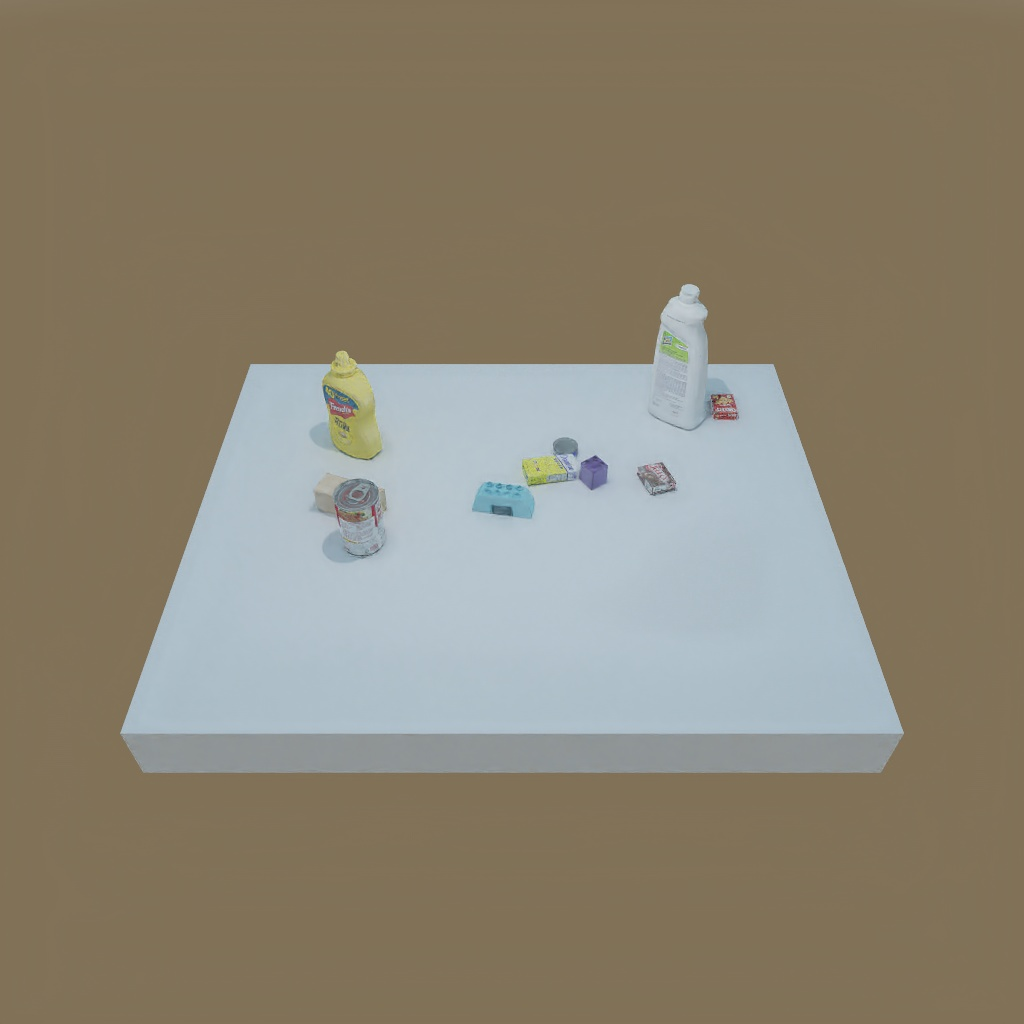mustard_bottle: (321, 353, 385, 461)
pudding_box: (635, 460, 677, 495)
tomato_soup_can: (332, 479, 386, 560)
wood_block: (315, 475, 388, 522)
